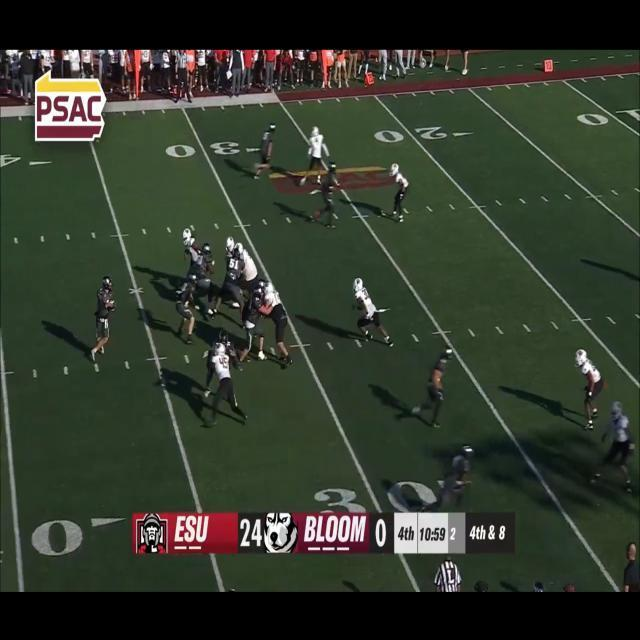football: (108, 297, 117, 312)
